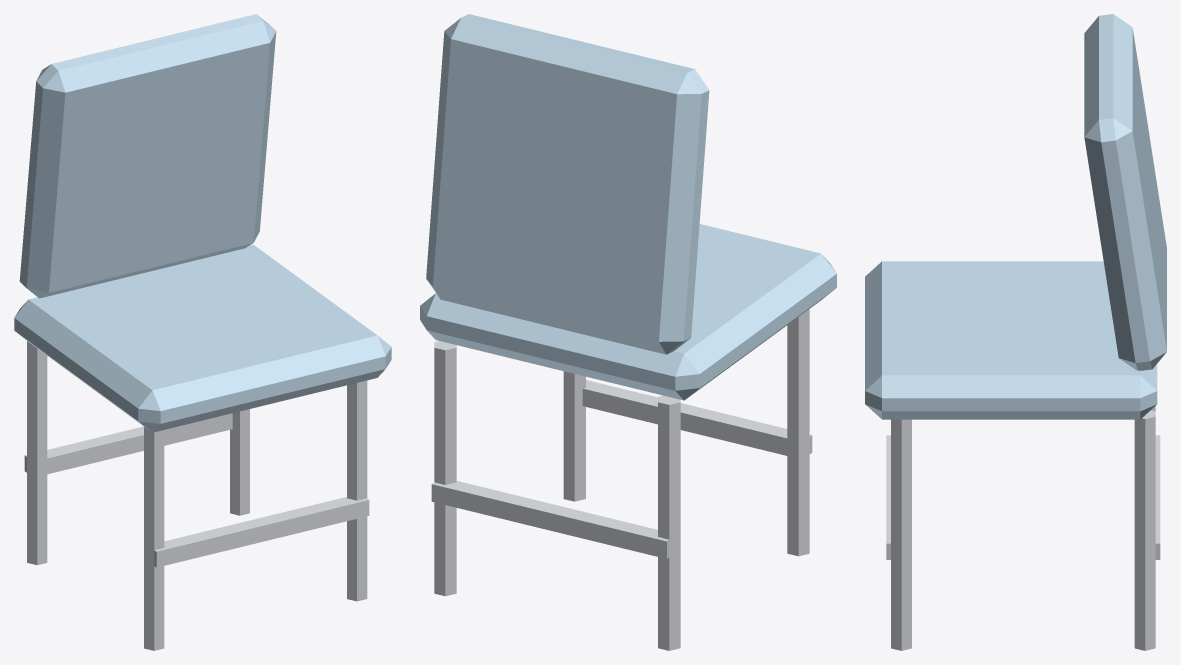
Rendered from medical-23631.glb.
3 views of the same model, side by side, from view 1: azimuth 30°, elevation 25°; view 2: azimuth 150°, elevation 25°; view 3: azimuth 270°, elevation 25° (orthographic). The views are drawn at different scales.
Parts seen in each view (by area): view 1: single-chair; view 2: single-chair; view 3: single-chair.
Boxes of the visible parts, left/top/right/bottom form: single-chair: left=14, top=14, right=391, bottom=650; single-chair: left=420, top=14, right=836, bottom=650; single-chair: left=865, top=14, right=1166, bottom=650.
Bounding box in the file's own units: 0.5 × 0.9572 × 0.4957.
